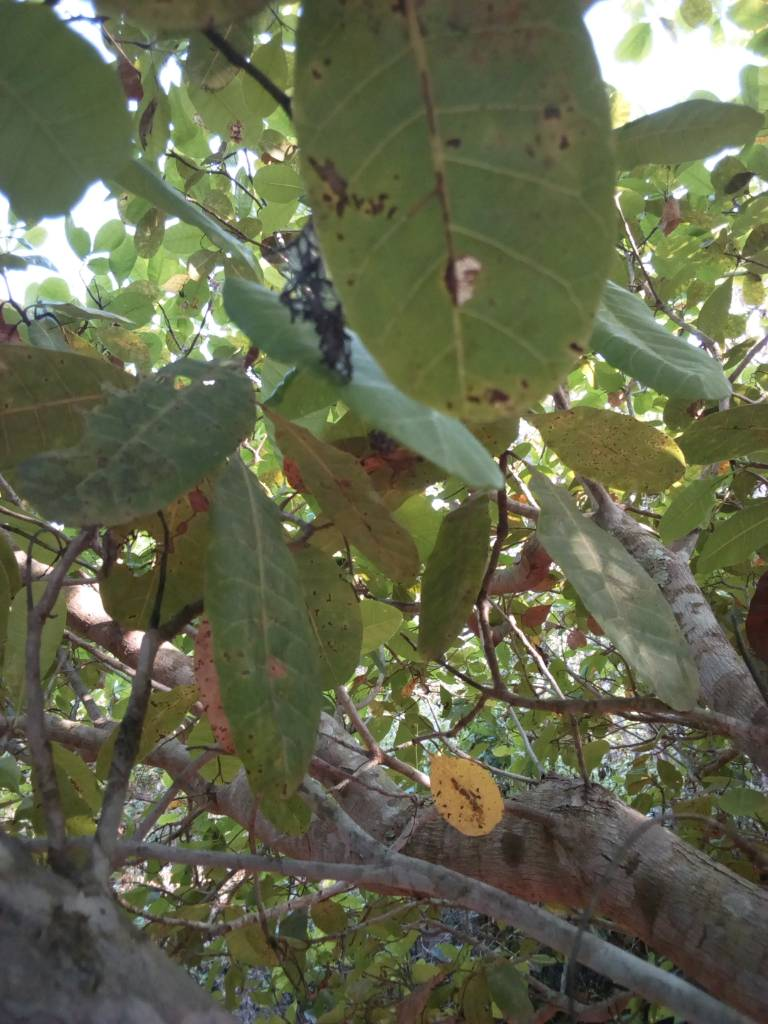Pestalotiose: (294, 7, 619, 417), (222, 480, 344, 830), (1, 344, 136, 458)
